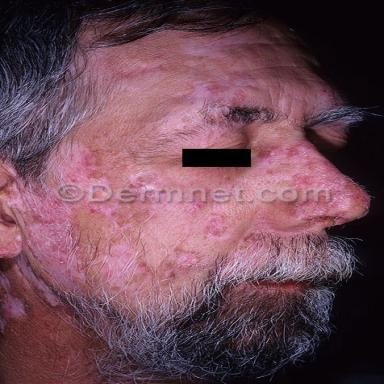Lupus-Erythematosus-Chronicus-Discoides: (1, 164, 88, 295), (242, 142, 369, 219), (102, 241, 155, 295), (13, 255, 62, 308), (180, 75, 257, 107), (50, 143, 108, 184), (0, 273, 28, 330), (88, 203, 134, 234), (127, 171, 162, 189), (205, 216, 227, 239), (172, 253, 200, 270)
